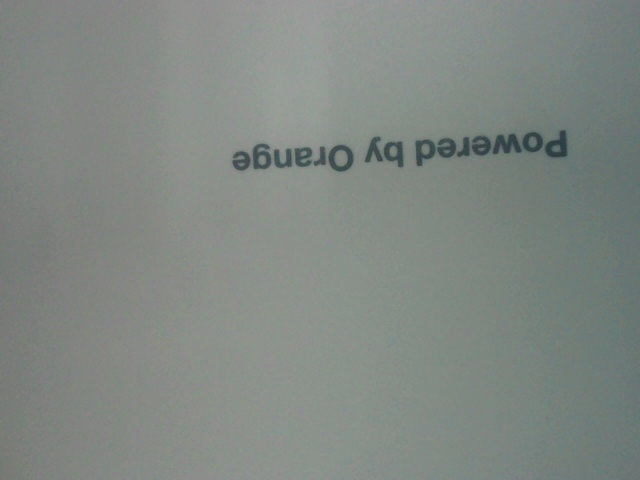AS_PowerByOrange: (217, 127, 582, 179)
